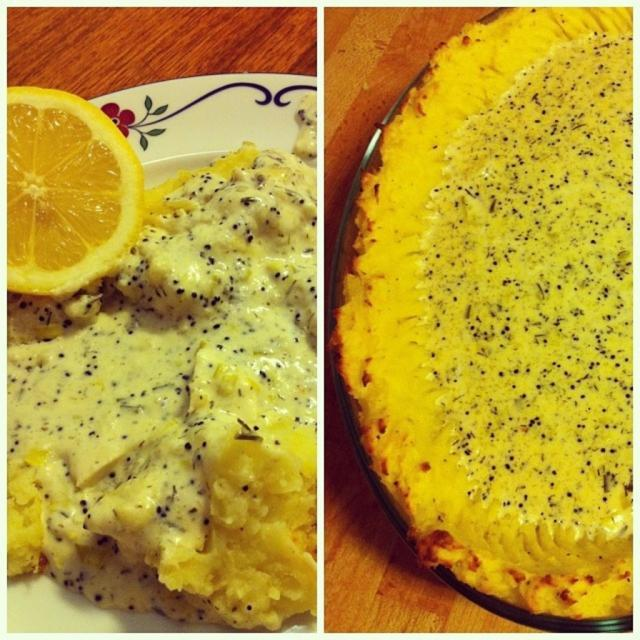Non_Gorille: (8, 14, 640, 636)
